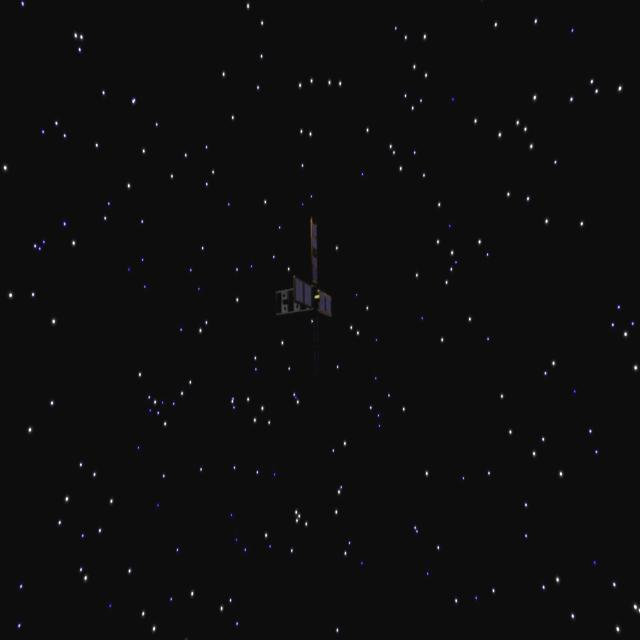satellite: (271, 213, 383, 336)
